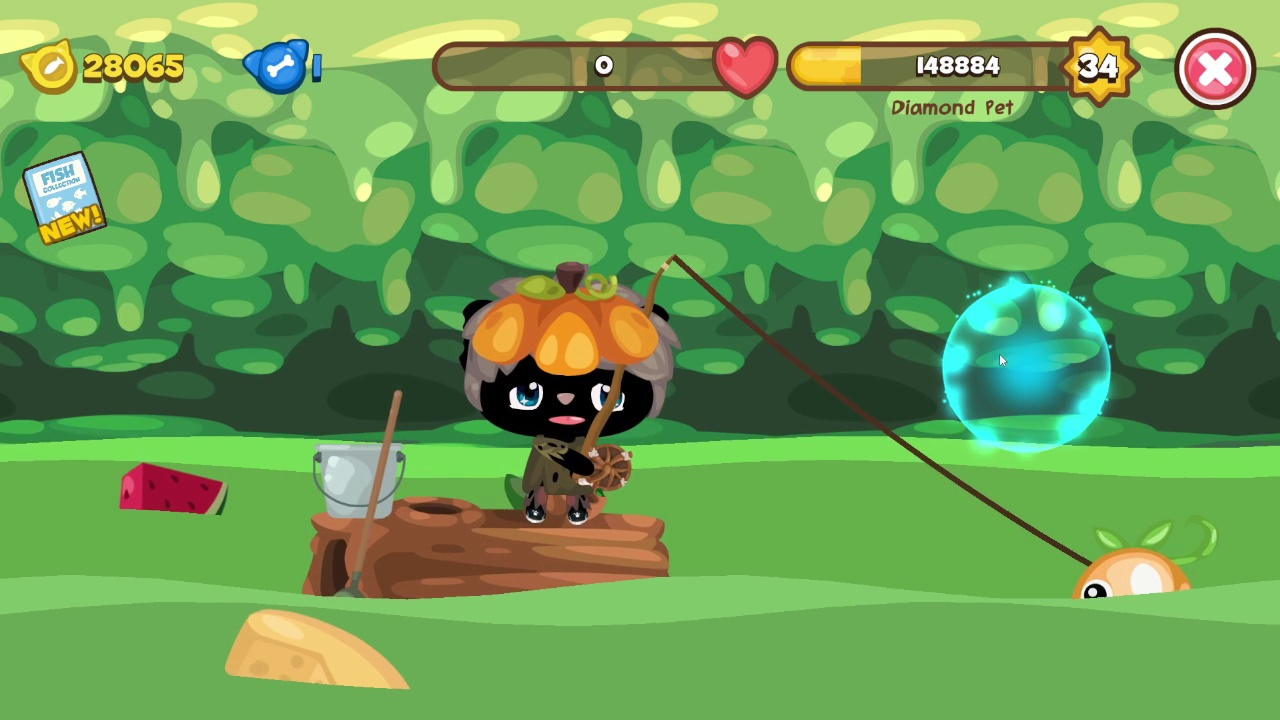point: (939, 281, 1115, 454)
